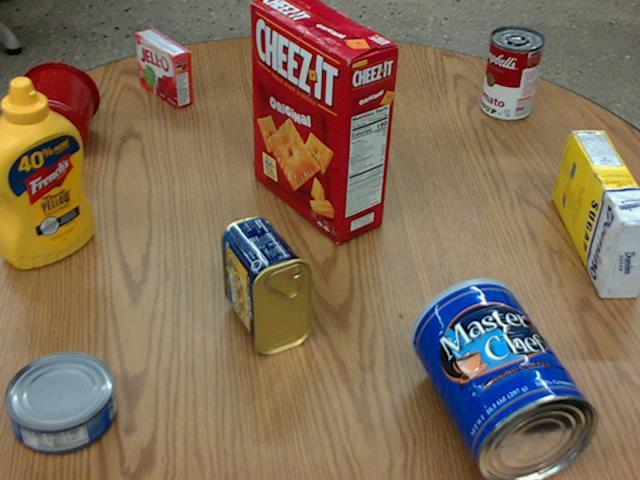cracker_box: (250, 0, 398, 240)
gelatin_box: (138, 28, 194, 107)
large_marker: (294, 0, 307, 61)
master_chef_can: (410, 277, 598, 479)
mug: (8, 61, 100, 159)
mustard_bottle: (0, 76, 95, 268)
potted_meat_can: (219, 216, 312, 355)
sugar_box: (552, 131, 639, 299)
tomato_soup_can: (481, 26, 544, 120)
tuna_fish_can: (5, 351, 115, 450)
